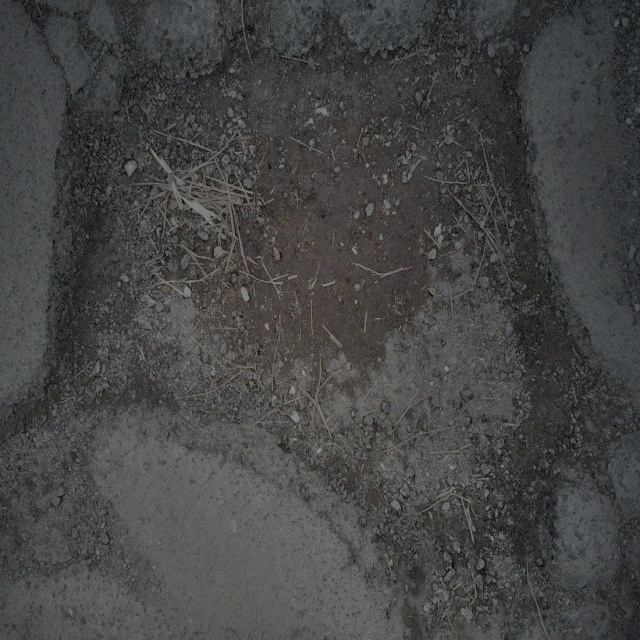pothole: (52, 34, 582, 568)
